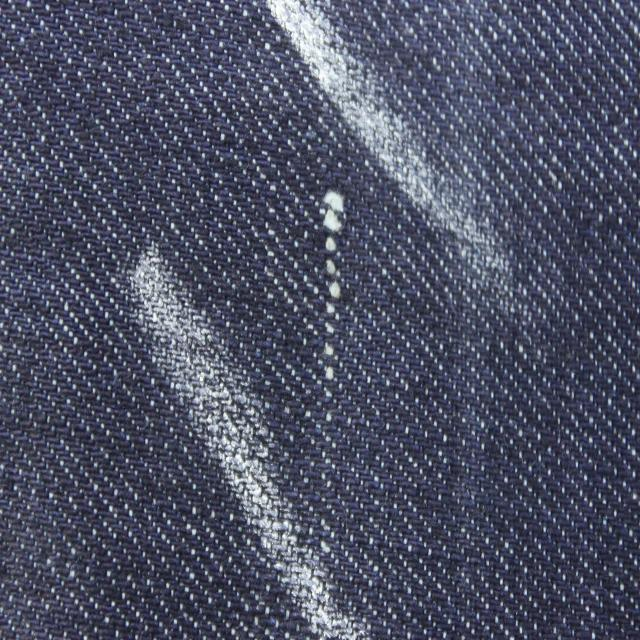pulled_or_thick_thread: (312, 174, 356, 574)
